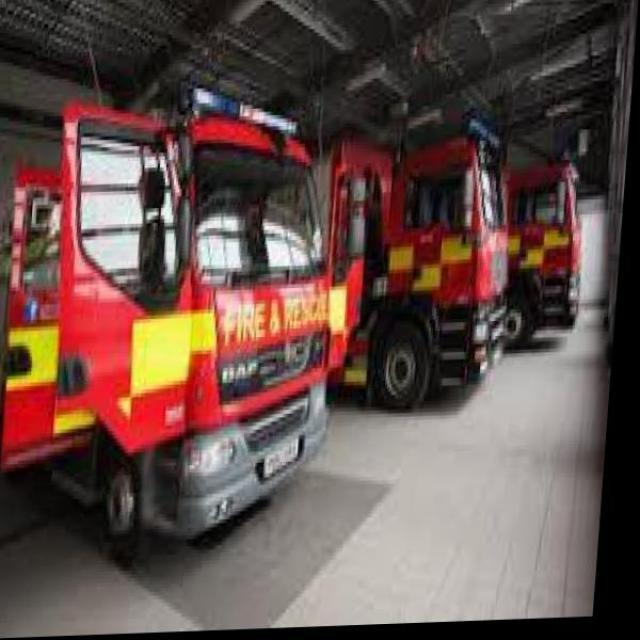emergency: (1, 74, 336, 556), (322, 116, 510, 410), (441, 152, 585, 350)
